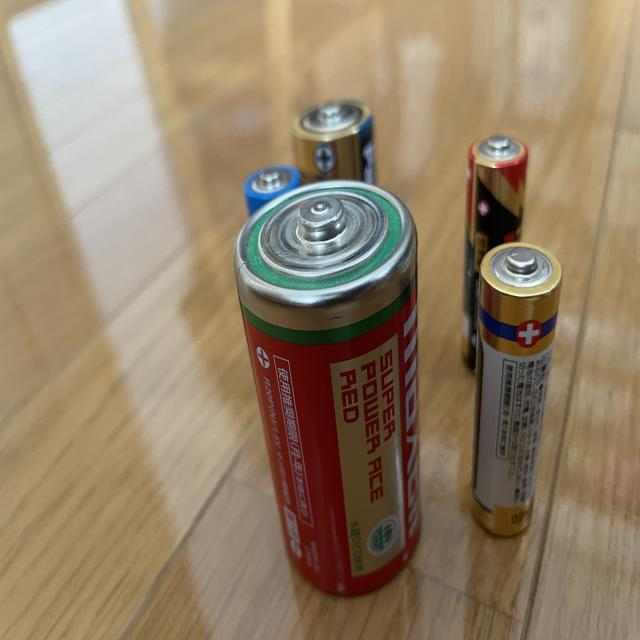battery: (229, 176, 429, 598), (463, 241, 566, 542), (459, 132, 535, 370), (287, 94, 387, 210), (234, 161, 301, 218)
